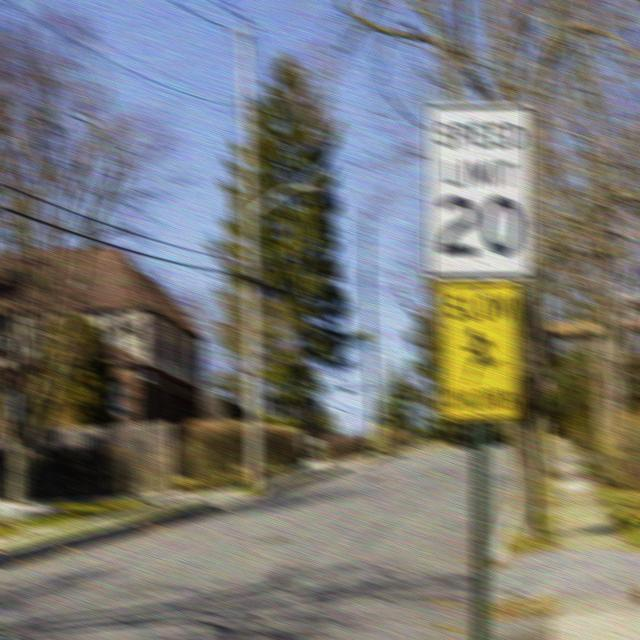speedLimit20: (430, 112, 525, 270)
